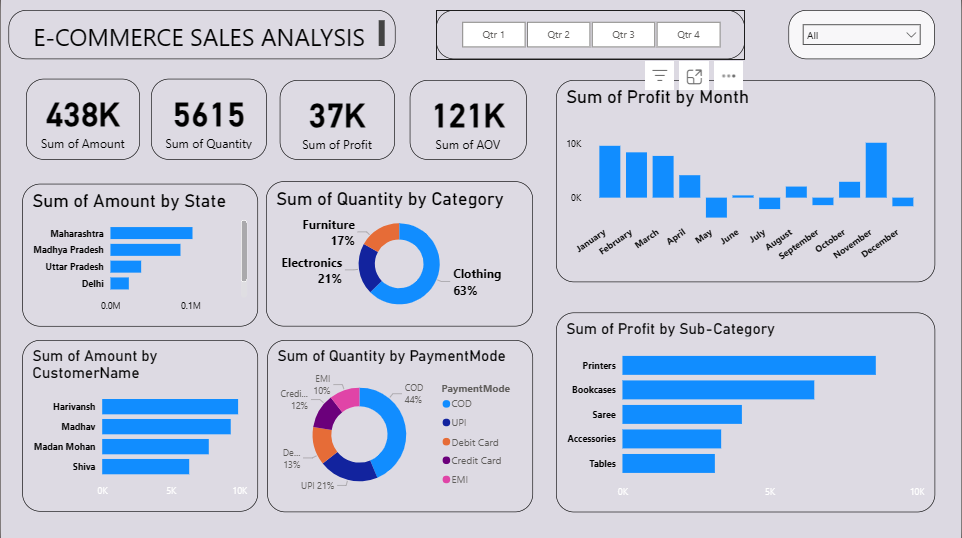

This screenshot's page, from the dashboard's own definition file:
{"tool":"powerbi","page":{"name":"Page 1","canvas":[1280,720],"ordinal":0},"visuals":[{"type":"textbox","box":[9.6,13.7,516,65.9],"z":0},{"type":"columnChart","fields":{"Category":["Orders.Order Date.Variation.Date Hierarchy.Month"],"Y":["Details.Profit"]},"box":[739.9,106.7,505.5,269.9],"z":1000},{"type":"barChart","fields":{"Category":["Details.Sub-Category"],"Y":["Details.Profit"]},"box":[739.9,416,505.5,266.3],"z":2000},{"type":"donutChart","fields":{"Category":["Details.Category"],"Y":["Details.Quantity"]},"box":[353.4,241.7,355.8,193.9],"z":3000},{"type":"donutChart","fields":{"Y":["Details.Quantity"],"Category":["Details.PaymentMode"]},"box":[354.6,454,354.6,229.4],"z":4000},{"type":"card","fields":{"Values":["Details.Amount"]},"box":[33.1,105.5,152.1,108],"z":5000},{"type":"card","fields":{"Values":["Details.Quantity"]},"box":[200,105.5,154.6,108],"z":6000},{"type":"card","fields":{"Values":["Details.Profit"]},"box":[371.8,106.7,153.4,106.7],"z":7000},{"type":"card","fields":{"Values":["Details.AOV"]},"box":[544.8,106.7,155.8,106.7],"z":8000},{"type":"barChart","fields":{"Category":["Orders.State"],"Y":["Details.Amount"]},"box":[28.2,245.4,314.1,190.2],"z":9000},{"type":"barChart","fields":{"Category":["Orders.CustomerName"],"Y":["Details.Amount"]},"box":[28,454,314,229],"z":10000},{"type":"slicer","fields":{"Values":["Orders.Order Date.Variation.Date Hierarchy.Quarter"]},"box":[580.4,13.7,411.7,65.9],"z":11000},{"type":"slicer","fields":{"Values":["Orders.State"]},"box":[1049.7,13.7,194.9,65.9],"z":12000}]}

Visuals, with their boxes in screenshot pixels (x1, y1, x2, y2), scaled from the page's 1280x720 canvas onto the 962x538 screenshot:
textbox: {"left": 7, "top": 10, "right": 395, "bottom": 59}
columnChart - Orders.Order Date.Variation.Date Hierarchy.Month x Details.Profit: {"left": 556, "top": 80, "right": 936, "bottom": 281}
barChart - Details.Sub-Category x Details.Profit: {"left": 556, "top": 311, "right": 936, "bottom": 510}
donutChart - Details.Category x Details.Quantity: {"left": 266, "top": 181, "right": 533, "bottom": 325}
donutChart - Details.Quantity x Details.PaymentMode: {"left": 267, "top": 339, "right": 533, "bottom": 511}
card - Details.Amount: {"left": 25, "top": 79, "right": 139, "bottom": 160}
card - Details.Quantity: {"left": 150, "top": 79, "right": 267, "bottom": 160}
card - Details.Profit: {"left": 279, "top": 80, "right": 395, "bottom": 159}
card - Details.AOV: {"left": 409, "top": 80, "right": 527, "bottom": 159}
barChart - Orders.State x Details.Amount: {"left": 21, "top": 183, "right": 257, "bottom": 325}
barChart - Orders.CustomerName x Details.Amount: {"left": 21, "top": 339, "right": 257, "bottom": 510}
slicer - Orders.Order Date.Variation.Date Hierarchy.Quarter: {"left": 436, "top": 10, "right": 746, "bottom": 59}
slicer - Orders.State: {"left": 789, "top": 10, "right": 935, "bottom": 59}
